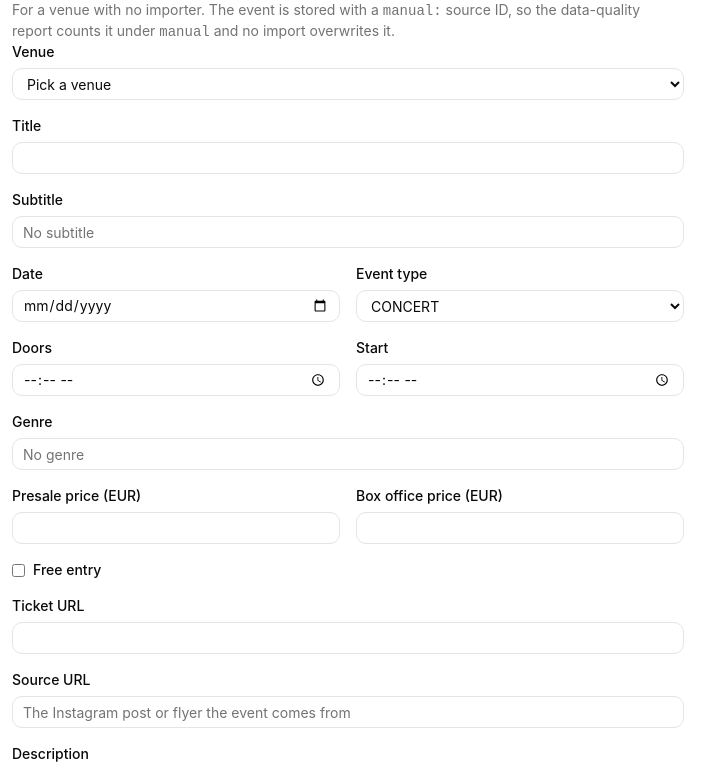
Scenario: NewEventView › POSTs the form as an EventRequest and shows the created id
The image size is (701, 768).
Select "Kulturhaus X" in the dropdown labelled "Venue": [348, 84] box [12,68,684,100]
In the field labelled "Title": [348, 158] box [12,142,684,174], type "Open Decks"
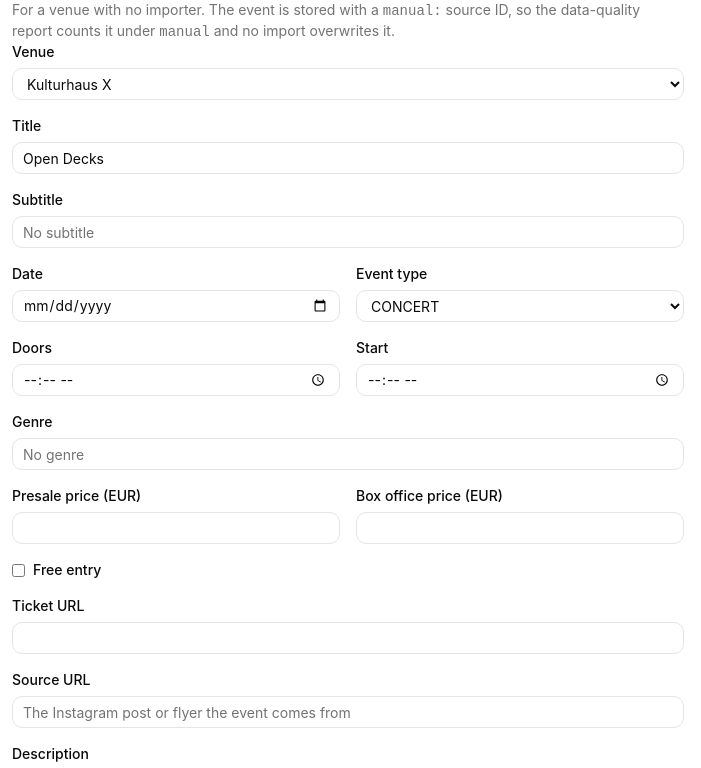
In the date field labelled "Date": [176, 306] box [12,290,340,322], type "2026-11-14"
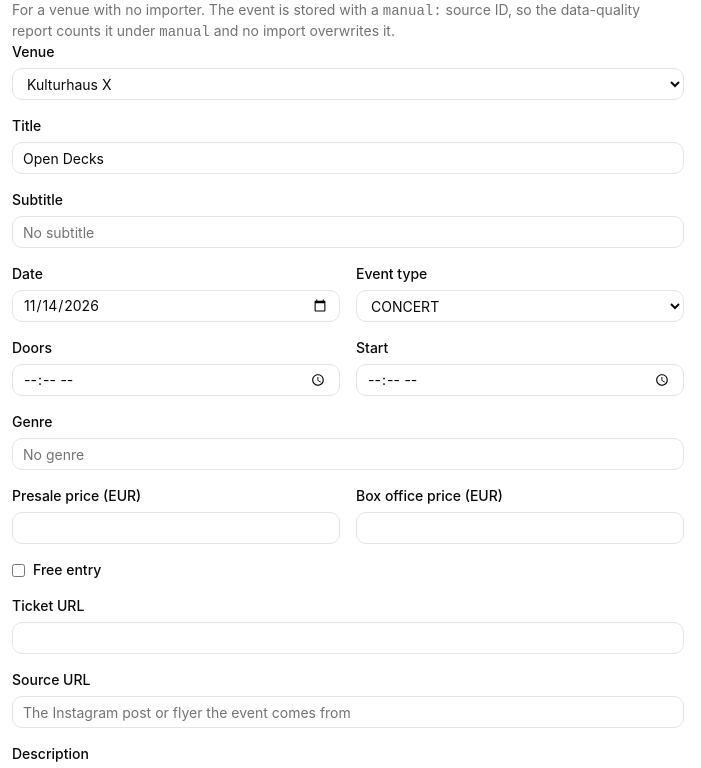
In the time field labelled "Start": [520, 380] box [356,364,684,396], type "21:00"
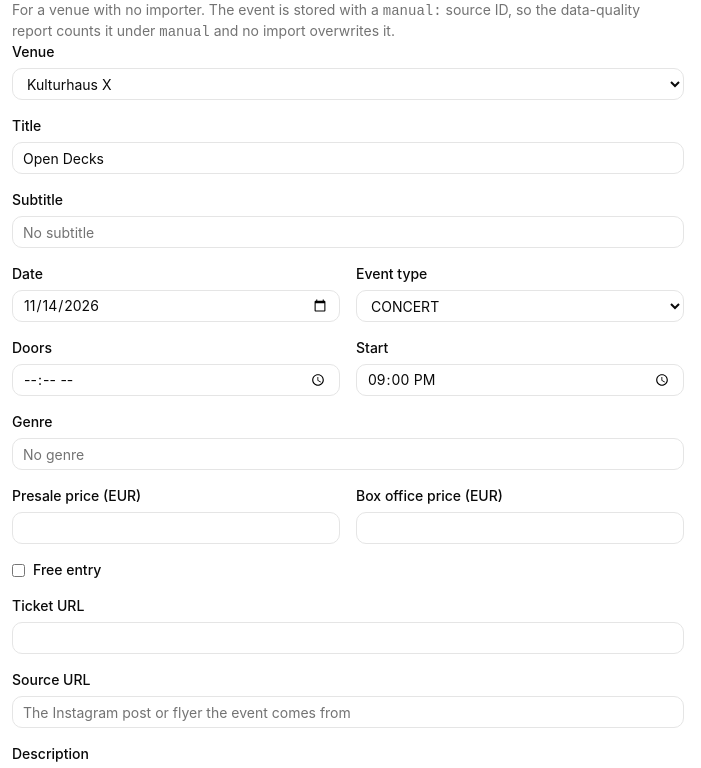
In the field labelled "Genre": [348, 454] box [12,438,684,470], type "House"
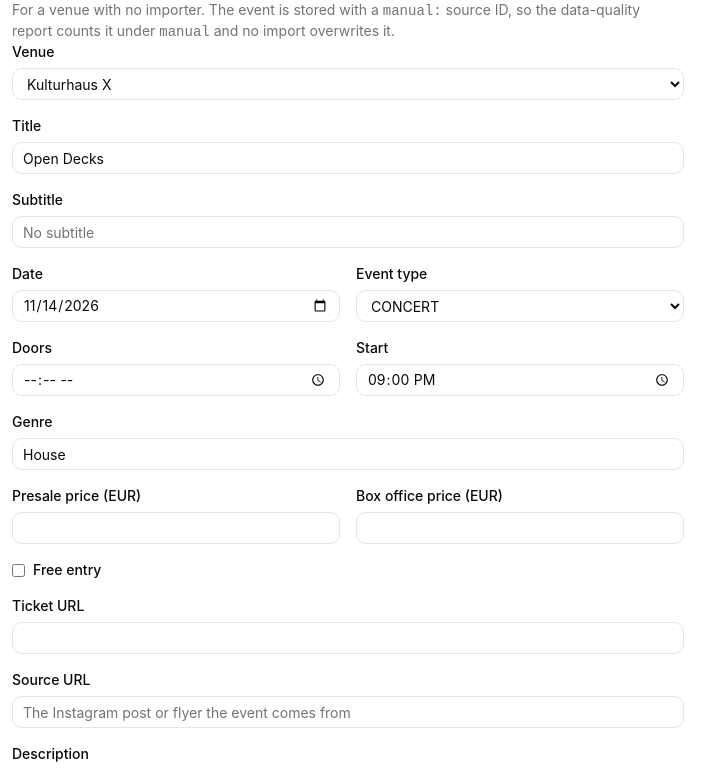
In the field labelled "Presale price (EUR)": [176, 528] box [12,512,340,544], type "5"
(page scrolled)
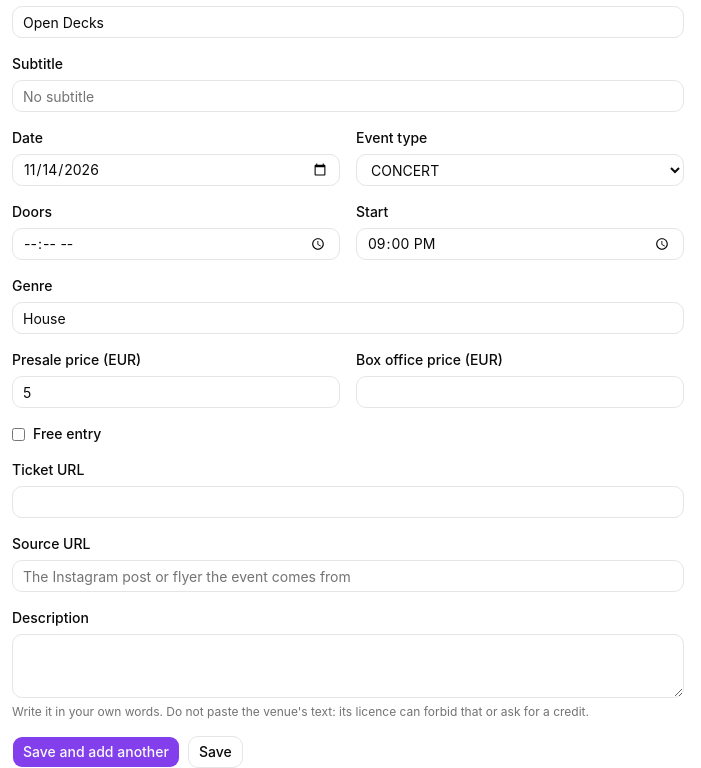
Click the button "Save": [215, 752] box [188,736,243,767]
(page scrolled)
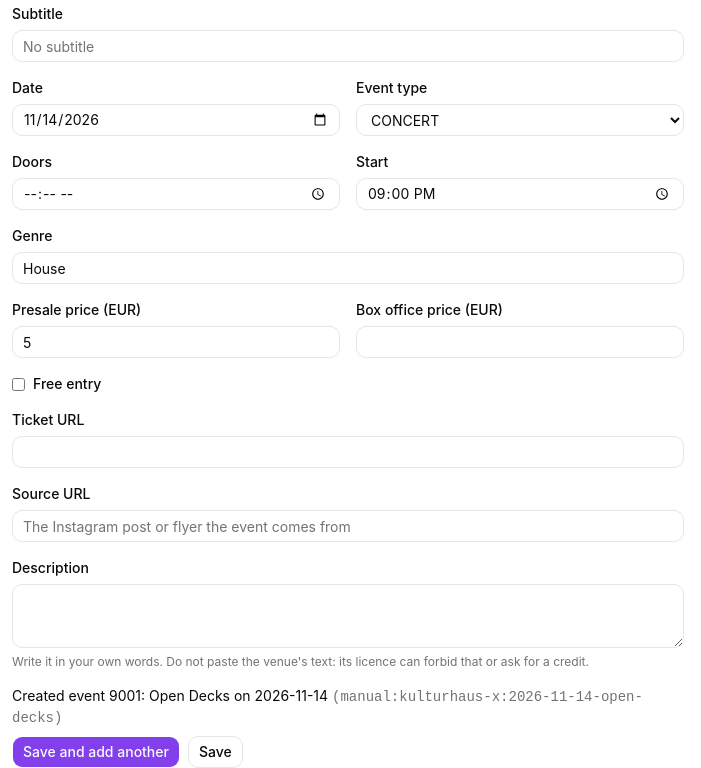
Result: the message shows "Created event 9001" at [12,687,332,704]
